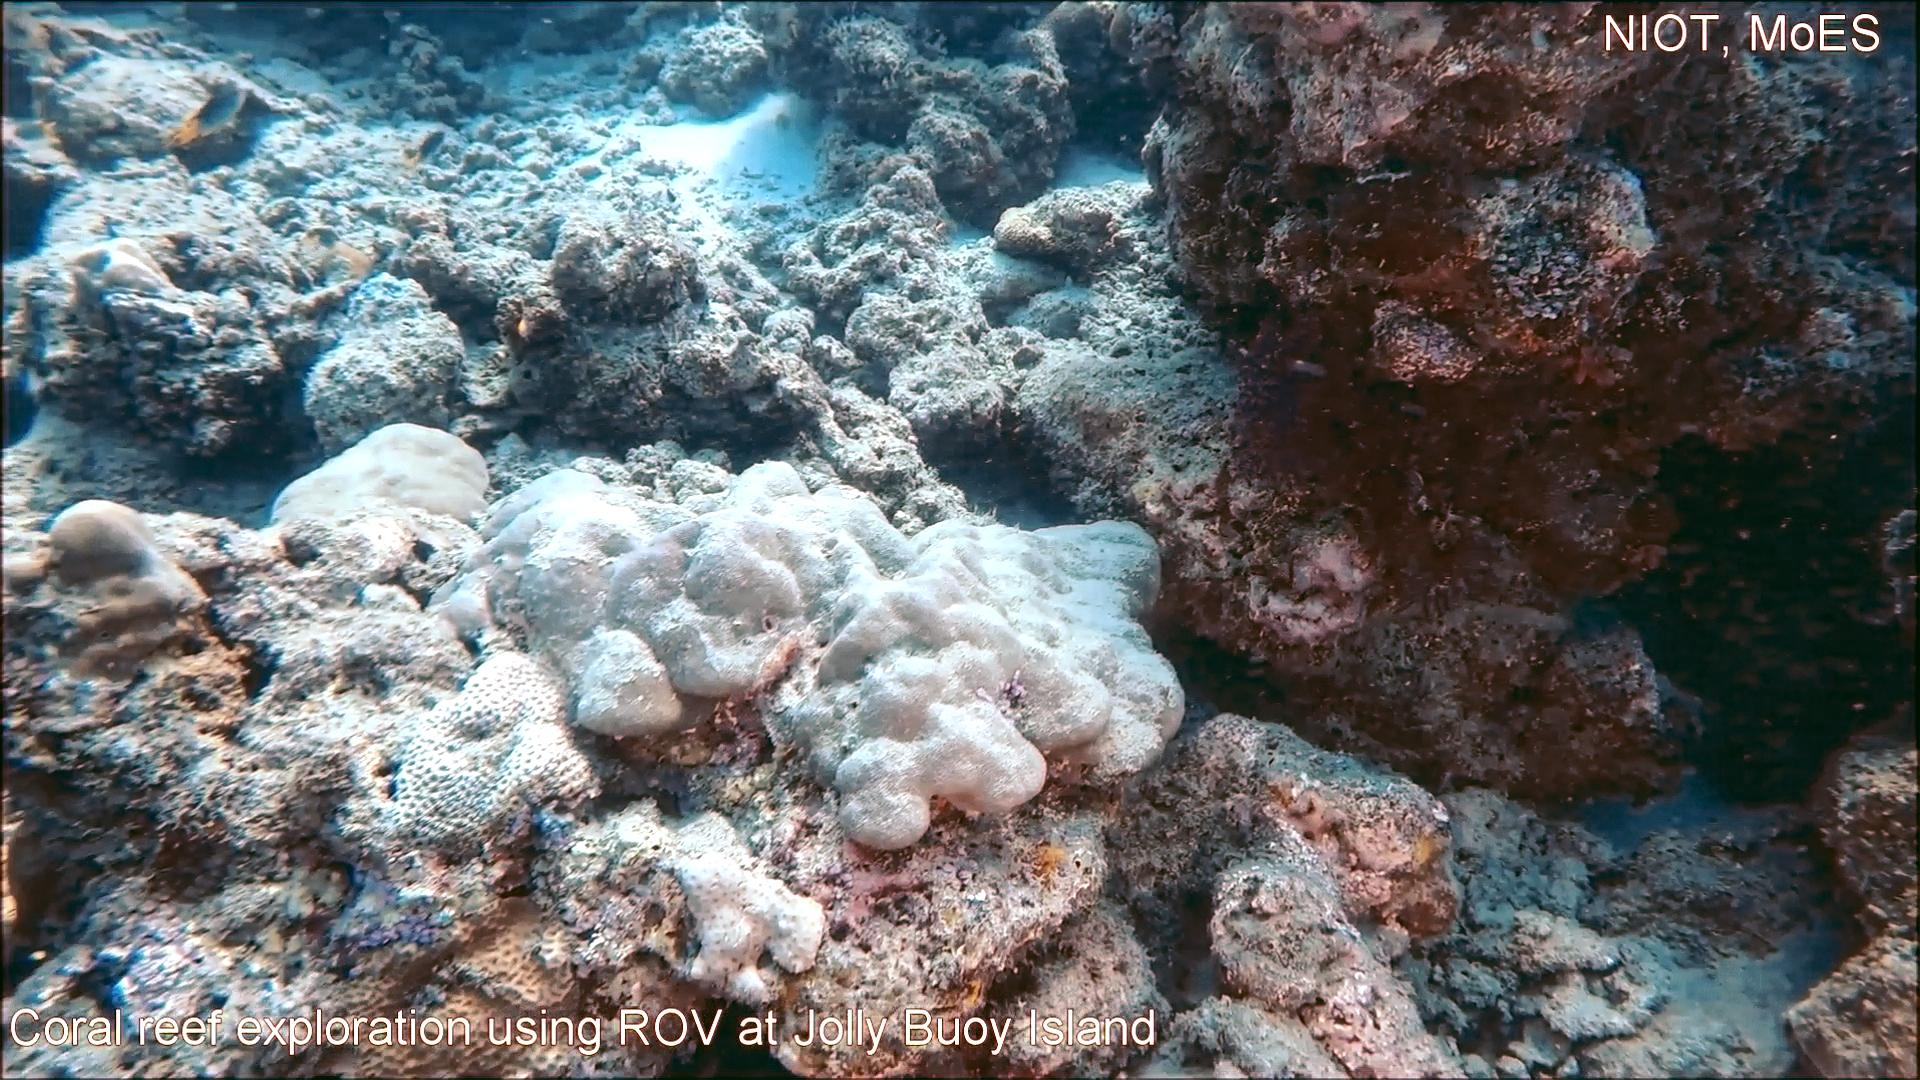Goniastrea-Goniastrea pectinata: (385, 645, 601, 865)
Gorgonian-Purple Plexaura: (1218, 278, 1555, 628)
Porites-Porites pukoensis: (682, 456, 1192, 857)
